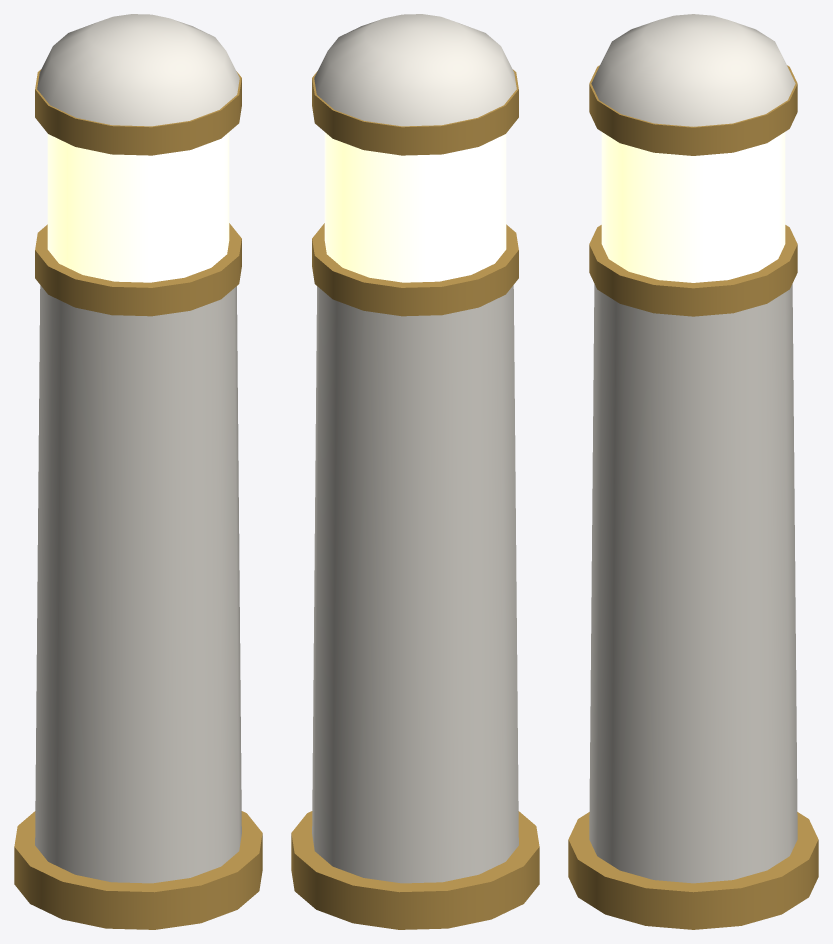
The model's file is bollard.glb.
3 renders of one model, left to right at view 1: azimuth 30°, elevation 25°; view 2: azimuth 150°, elevation 25°; view 3: azimuth 270°, elevation 25°, orthographic.
Parts seen in each view (by area): view 1: body; view 2: body; view 3: body.
Part boxes in pixels (bbox=[...]): body: bbox=[14, 14, 262, 929]; body: bbox=[291, 14, 539, 929]; body: bbox=[568, 14, 818, 929].
Size of the model in its own units: 0.24 by 0.8988 by 0.24.
